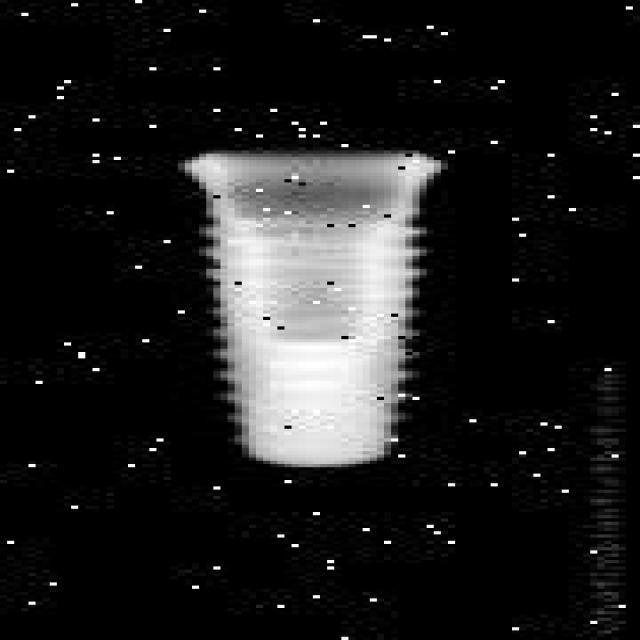Titan Implant Implant: (178, 150, 448, 470)
